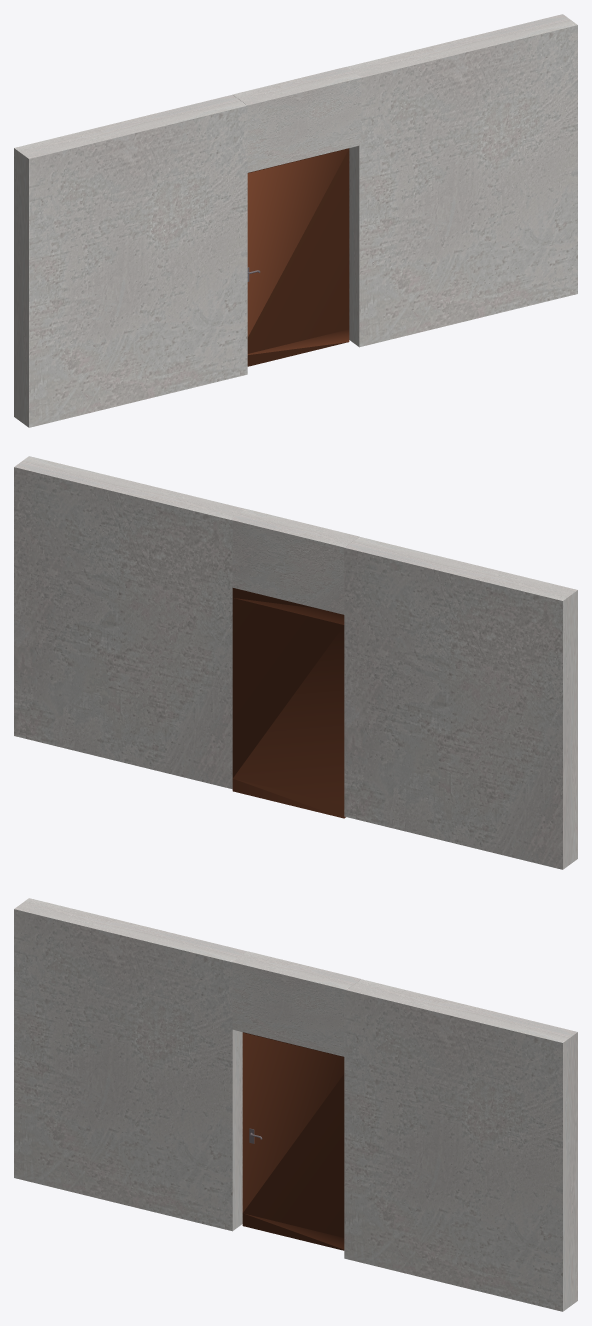
File: wall_closed_doors.fbx
3 views of the same model, one above another, from view 1: azimuth 30°, elevation 25°; view 2: azimuth 150°, elevation 25°; view 3: azimuth 330°, elevation 25° (orthographic).
Parts seen in each view (by area): view 1: Cube, Door; view 2: Cube, Door; view 3: Cube, Door.
Boxes of the visible parts, bbox=[...] form: Cube: bbox=[14, 14, 577, 427]; Door: bbox=[247, 148, 349, 366]; Cube: bbox=[14, 456, 577, 869]; Door: bbox=[232, 588, 345, 818]; Cube: bbox=[14, 898, 577, 1311]; Door: bbox=[242, 1032, 344, 1250].
Size of the model in its own units: 640 by 302 by 30.46.
